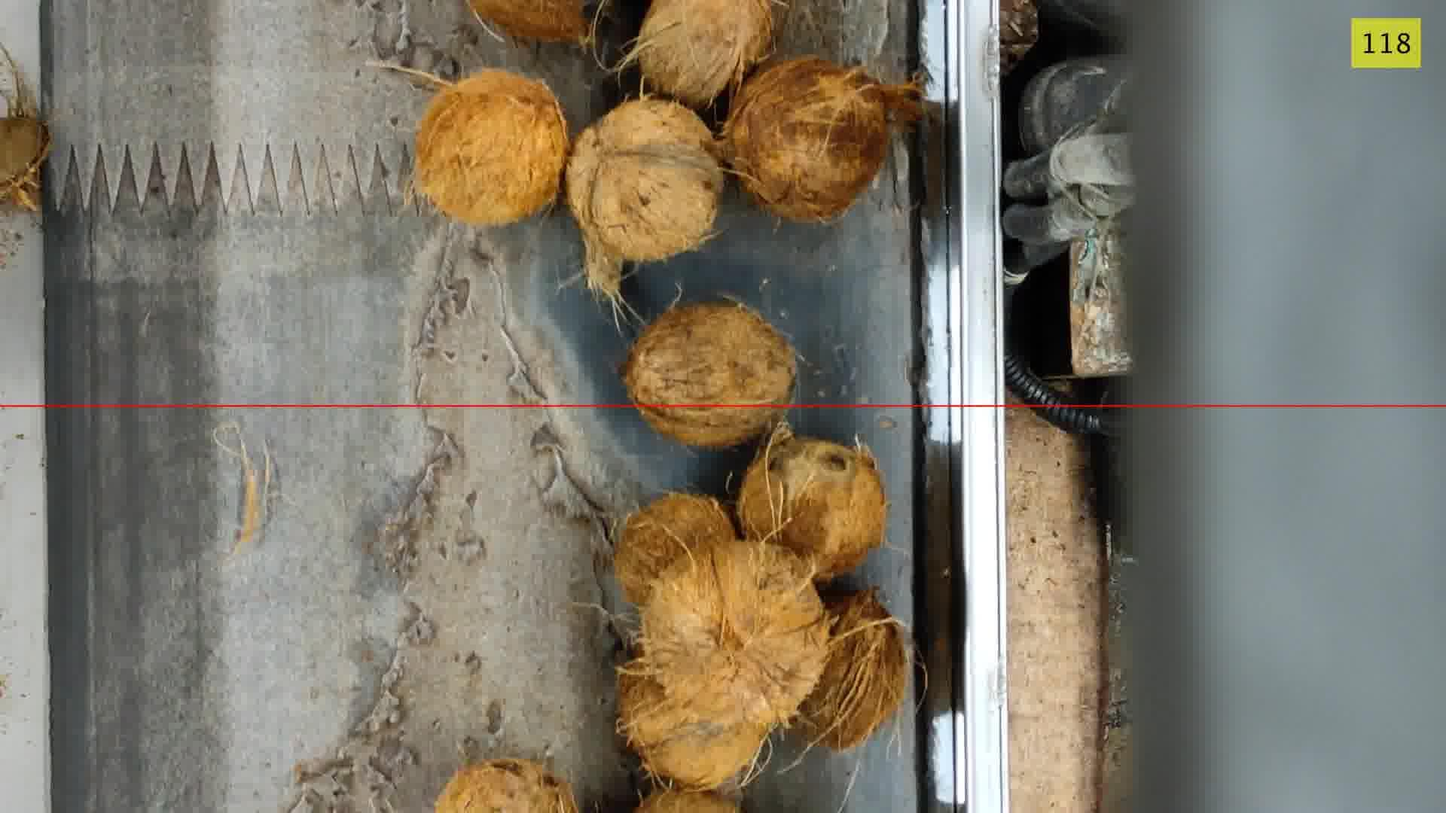Coconut: (633, 540, 828, 728), (723, 57, 922, 221), (566, 98, 724, 300), (622, 302, 796, 446), (415, 69, 569, 225), (737, 425, 887, 579), (618, 665, 769, 790), (800, 589, 911, 749), (624, 0, 775, 107), (613, 493, 736, 604), (0, 46, 51, 211), (435, 759, 578, 812), (468, 0, 588, 41), (635, 790, 740, 812)
